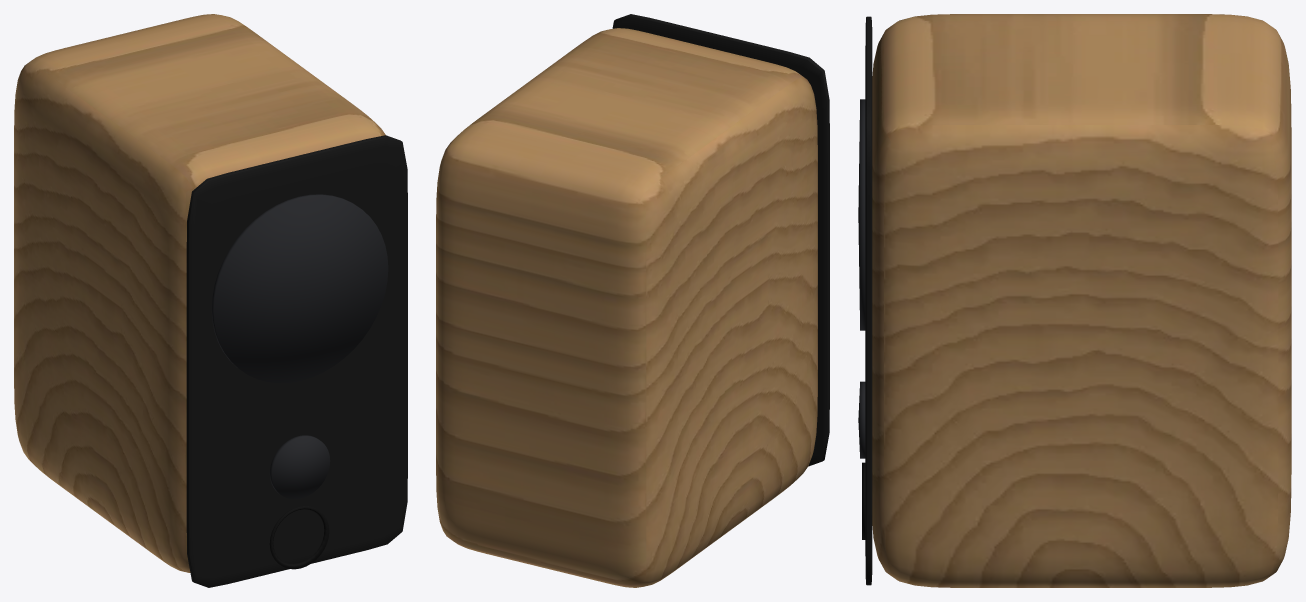
Rendered from bookshelf-oak.glb.
The picture shows the model from 3 angles, left to right: view 1: azimuth 30°, elevation 25°; view 2: azimuth 150°, elevation 25°; view 3: azimuth 270°, elevation 25°; orthographic projection. The views are drawn at different scales.
Visible parts, largest first — view 1: wood_x, baffle, driver_cone, port; view 2: wood_x, baffle; view 3: wood_x, baffle, driver_cone.
Boxes of the visible parts, x1=… form: wood_x: x1=14, y1=14, x2=385, y2=572; baffle: x1=186, y1=135, x2=407, y2=587; driver_cone: x1=211, y1=194, x2=388, y2=499; port: x1=269, y1=505, x2=329, y2=569; wood_x: x1=436, y1=28, x2=817, y2=587; baffle: x1=612, y1=14, x2=829, y2=466; wood_x: x1=872, y1=14, x2=1291, y2=587; baffle: x1=865, y1=16, x2=872, y2=585; driver_cone: x1=858, y1=99, x2=865, y2=458.
Size of the model in its own units: 0.17 by 0.3 by 0.247.
Materials: 4 (1 with a texture image).
